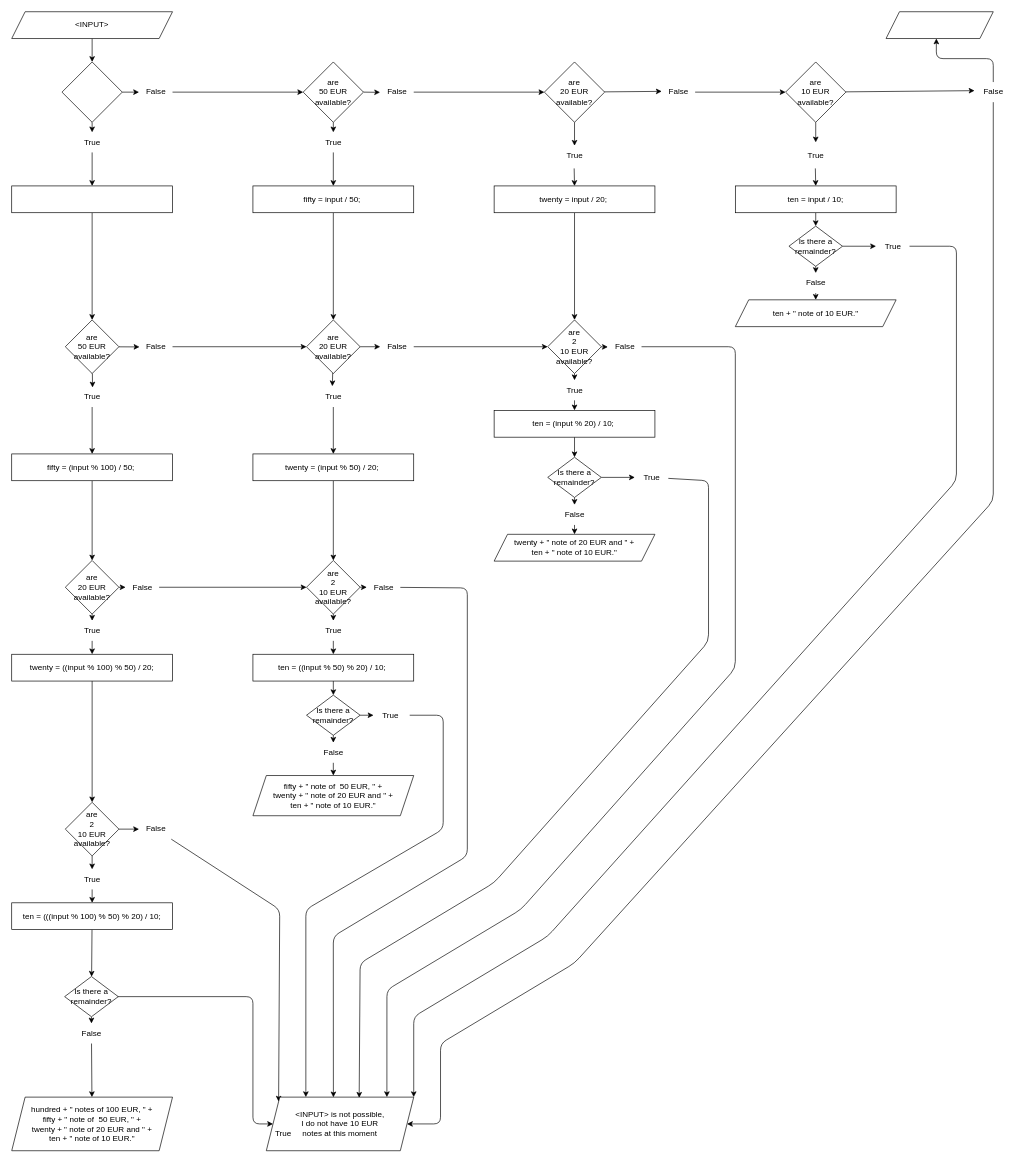
Image size: 1022x1162. Some labels were removed from this diagram. Here are the shapes that lost their labels. From the top down, the centre of each, then its label:
pixel 939 25: Message to the bank
pixel 91 91: are 100 EUR available?
pixel 92 199: hundred = input / 100;
